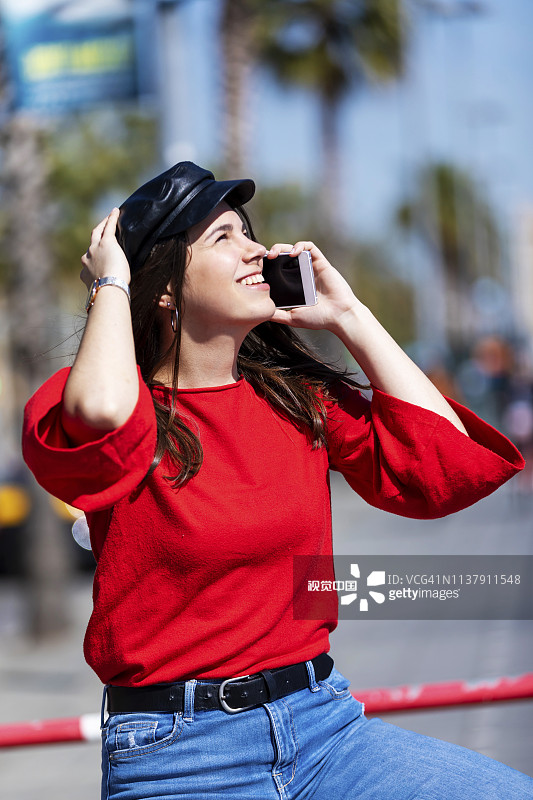calling: (231, 224, 377, 354)
